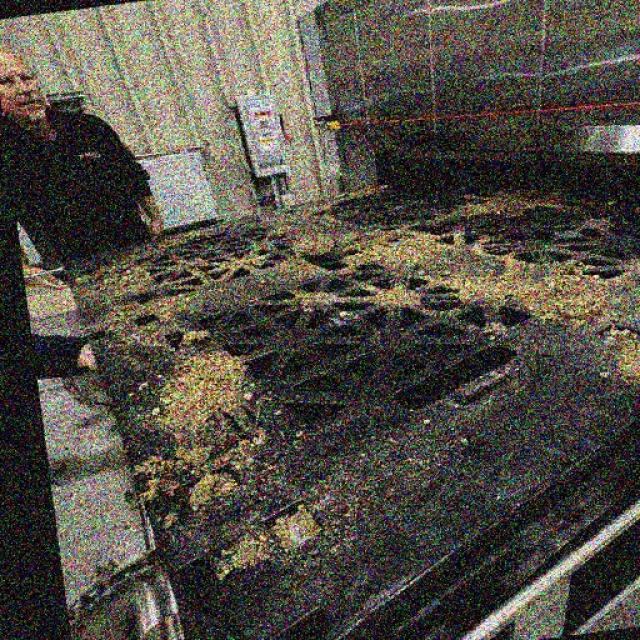igps: (50, 162, 640, 640)
